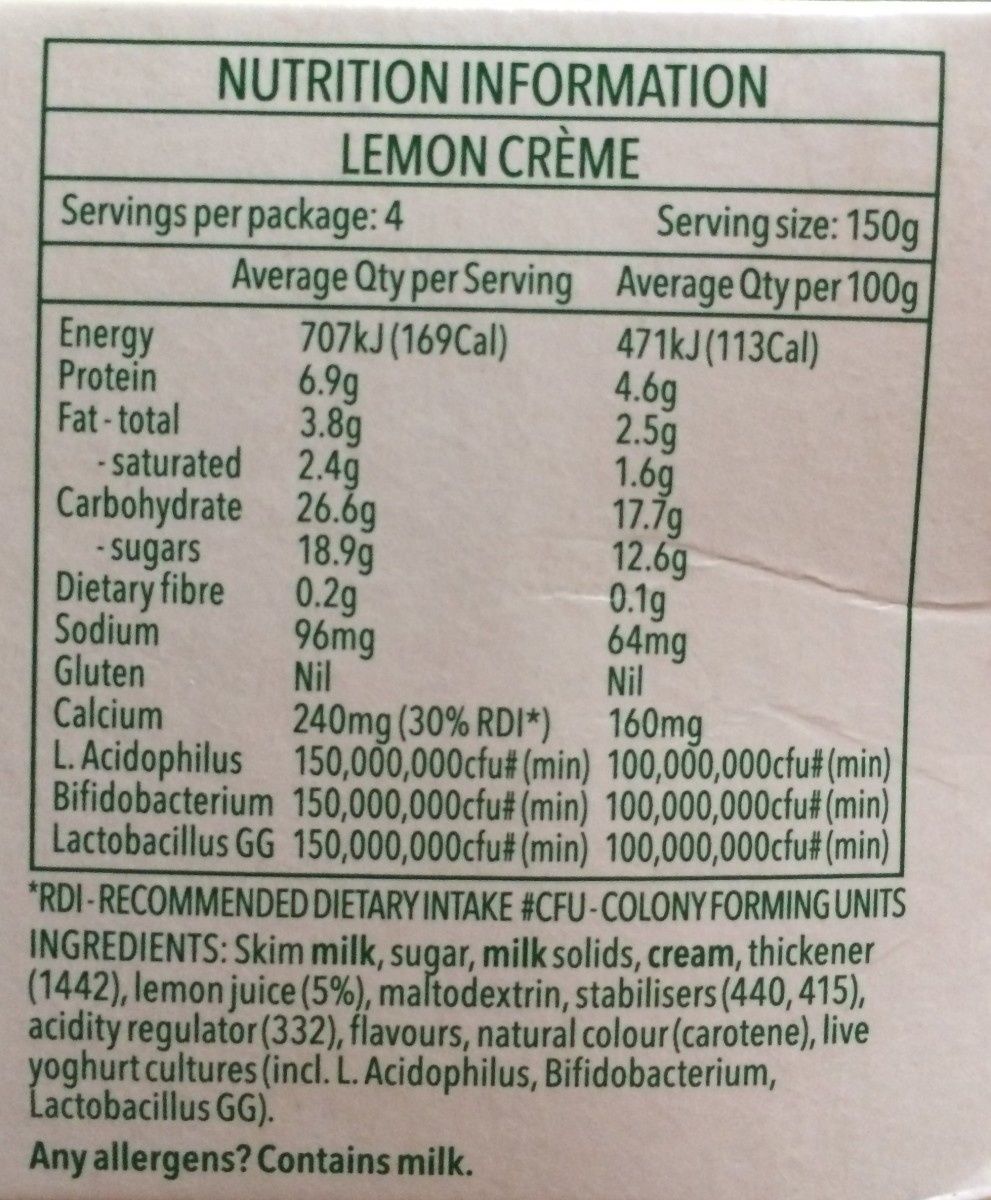column: (292, 315, 590, 866), (607, 321, 890, 868), (48, 312, 274, 861)
table: (28, 34, 939, 884)
